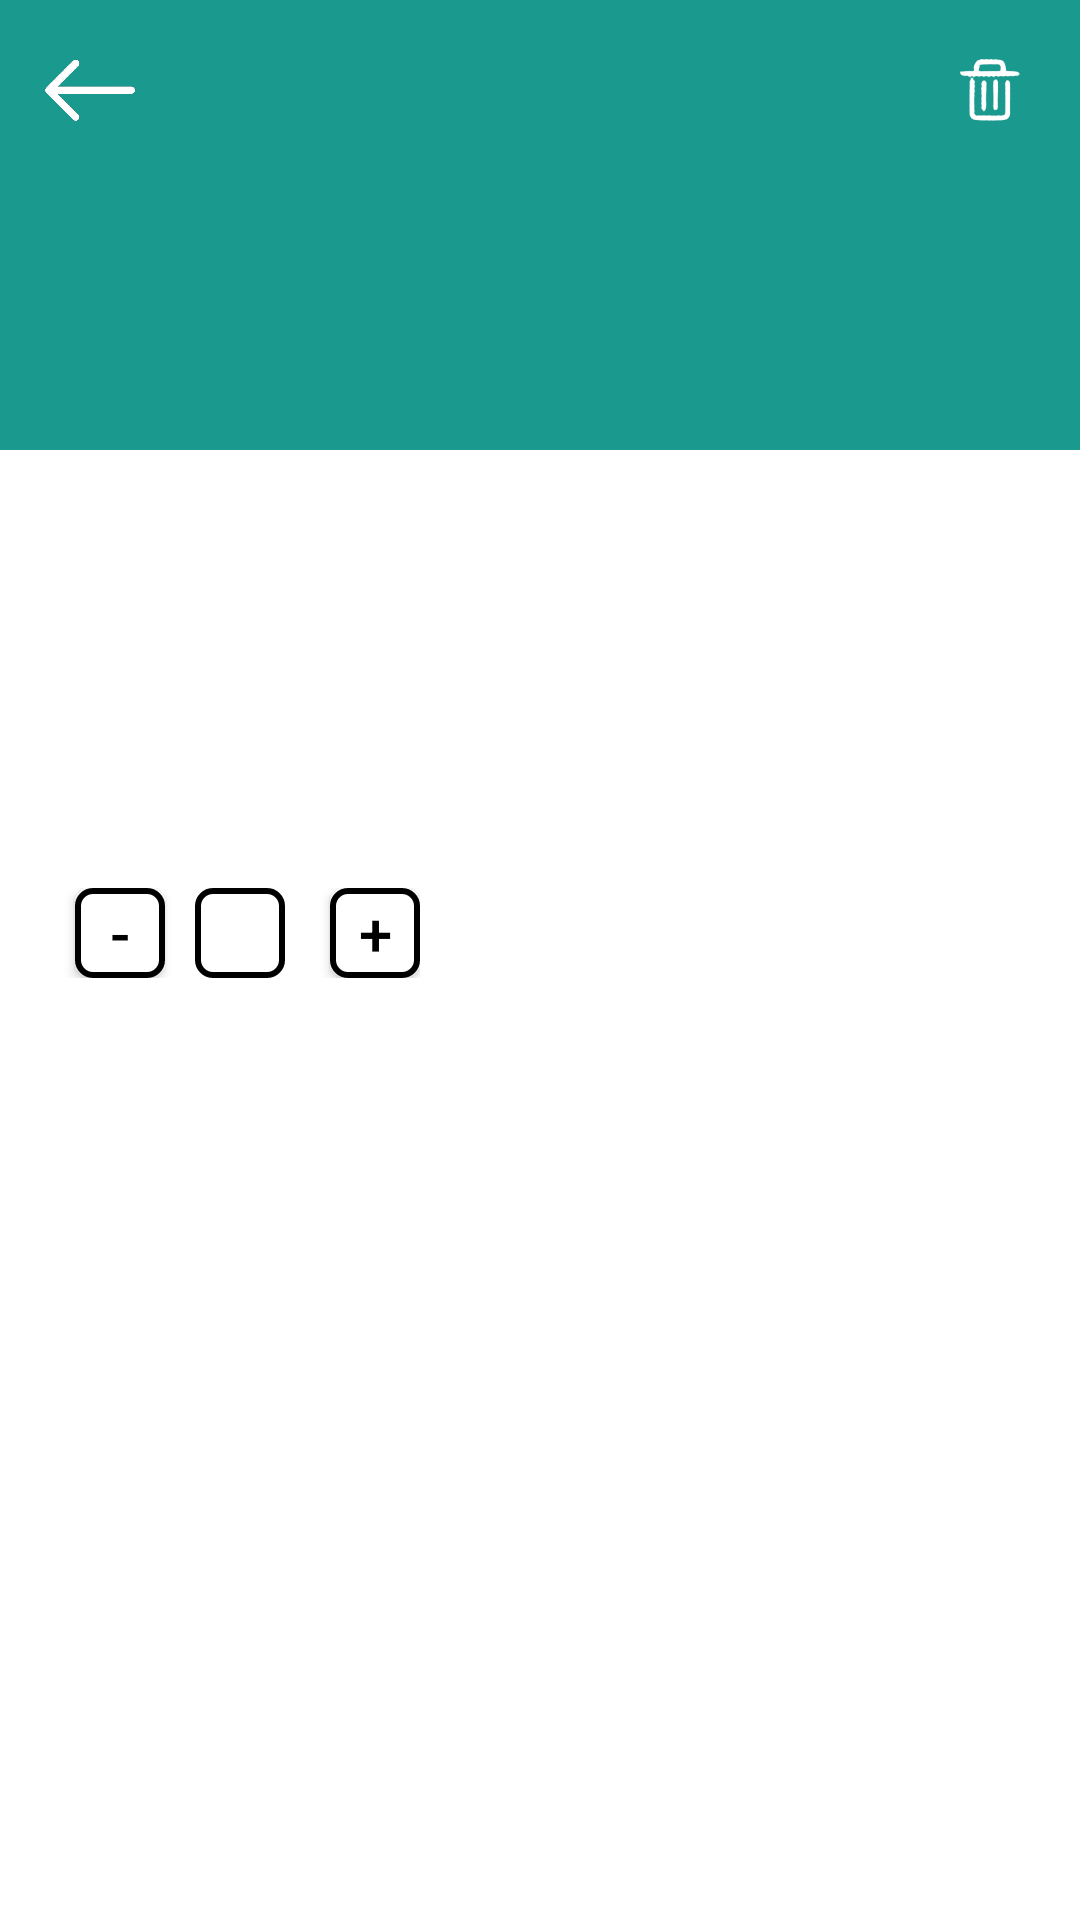

Icons on this 1080w x 1920h Android screen, each with the point to tap as (x,y):
back: (90,90)
delete: (990,90)
